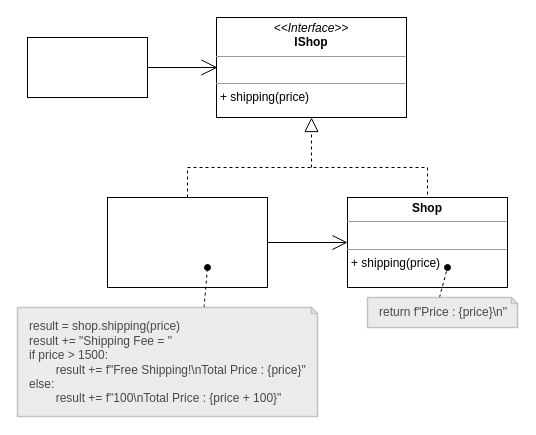
Image size: 536x435. Some labels were removed from this diagram. The centre of each missing label's shape, as x and y in pixels:
Client: (x=87, y=67)
ProxyShop - shop : Shop + shipping(price): (x=187, y=242)
